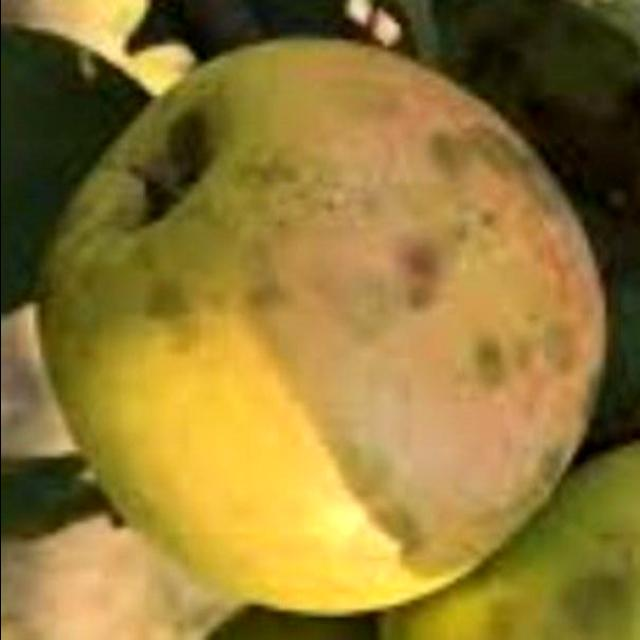BLOTCH: (26, 31, 617, 624)
